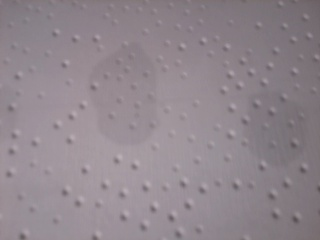Water_detected: (82, 50, 162, 132), (0, 88, 33, 137), (241, 106, 272, 154)
